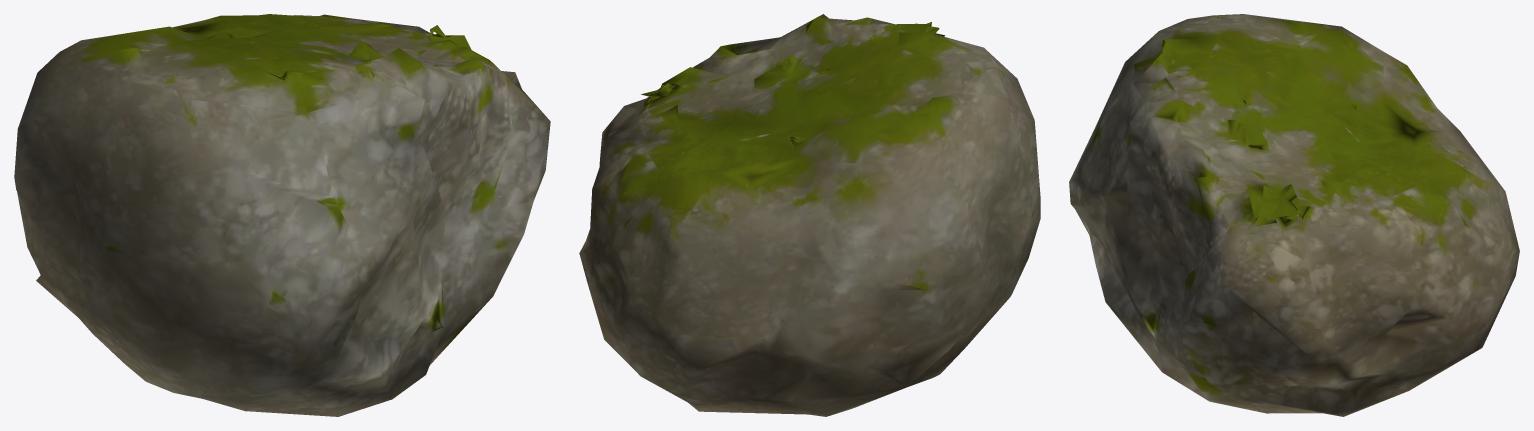
The model's file is rock-mossy.glb.
3 views of the same model, side by side, from view 1: azimuth 30°, elevation 25°; view 2: azimuth 150°, elevation 25°; view 3: azimuth 270°, elevation 25° (orthographic). The views are drawn at different scales.
Parts seen in each view (by area): view 1: tripo_node_ffb6a680-519b-4c6c-bbee-b49fa704e7f6; view 2: tripo_node_ffb6a680-519b-4c6c-bbee-b49fa704e7f6; view 3: tripo_node_ffb6a680-519b-4c6c-bbee-b49fa704e7f6.
Part boxes in pixels (box(x1,y1,x2,y2)): tripo_node_ffb6a680-519b-4c6c-bbee-b49fa704e7f6: box(14, 14, 550, 416); tripo_node_ffb6a680-519b-4c6c-bbee-b49fa704e7f6: box(579, 14, 1040, 416); tripo_node_ffb6a680-519b-4c6c-bbee-b49fa704e7f6: box(1069, 14, 1519, 416).
Bounding box in the file's own units: 0.9974 × 0.7699 × 1.
1 material, 1 textured.
